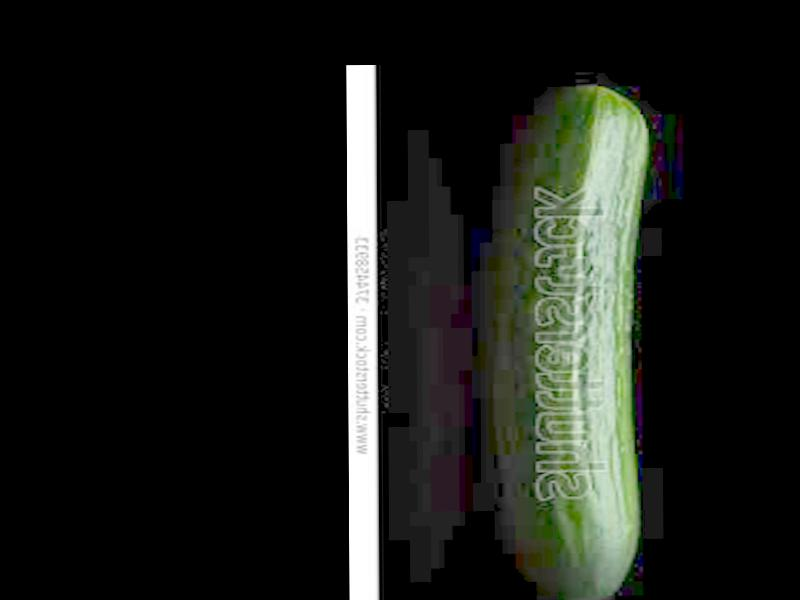Cucumber: (528, 82, 647, 600)
